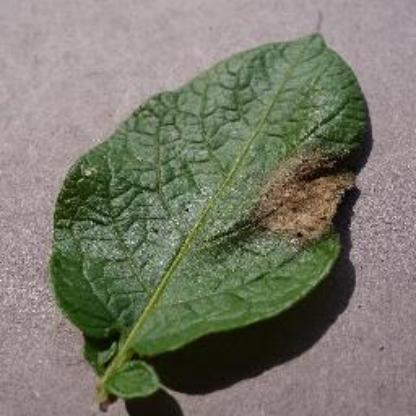Late-Blight: (46, 27, 374, 406)
